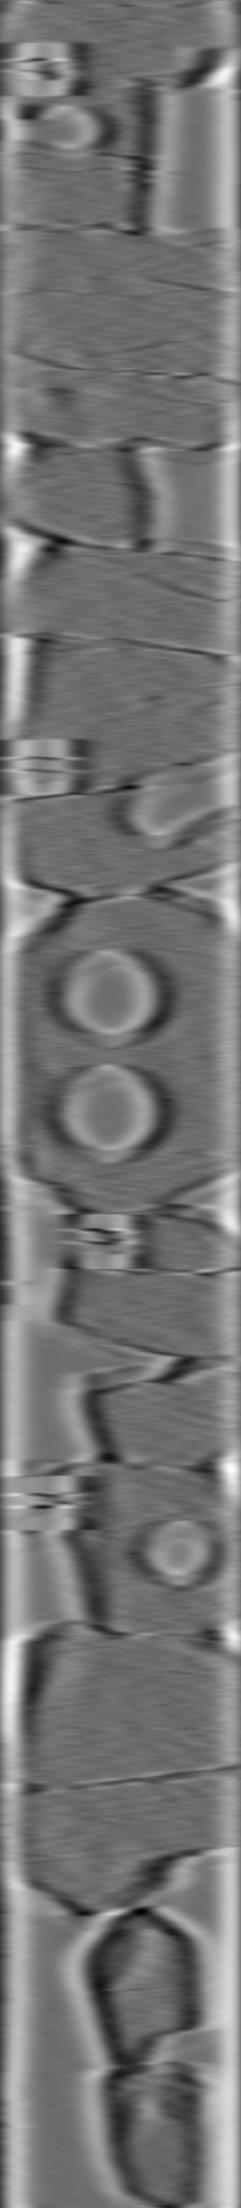hplug: (137, 1514, 221, 1594), (30, 94, 118, 166), (116, 780, 194, 859)
scal: (54, 936, 171, 1055), (55, 1058, 171, 1172)
vplug: (125, 66, 225, 258), (48, 1464, 121, 1643)
